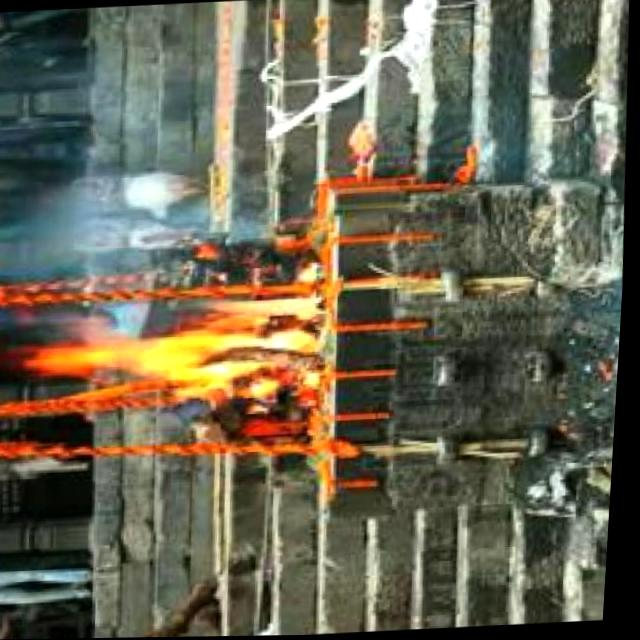fire: (28, 282, 324, 413)
